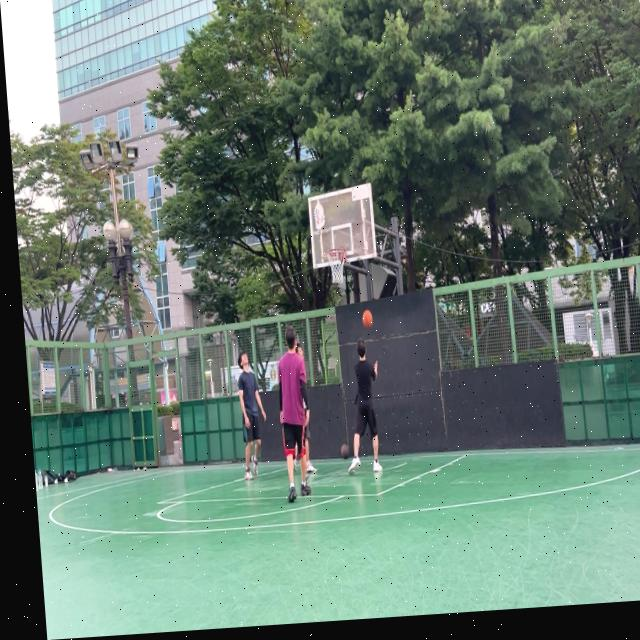basketball: (362, 309, 374, 330), (340, 443, 351, 460)
hoop: (326, 247, 349, 285)
